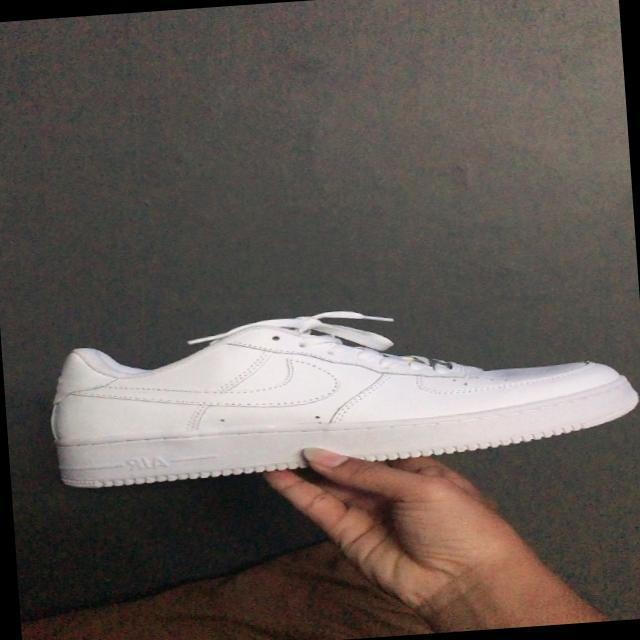nike fake air force: (36, 296, 640, 490)
